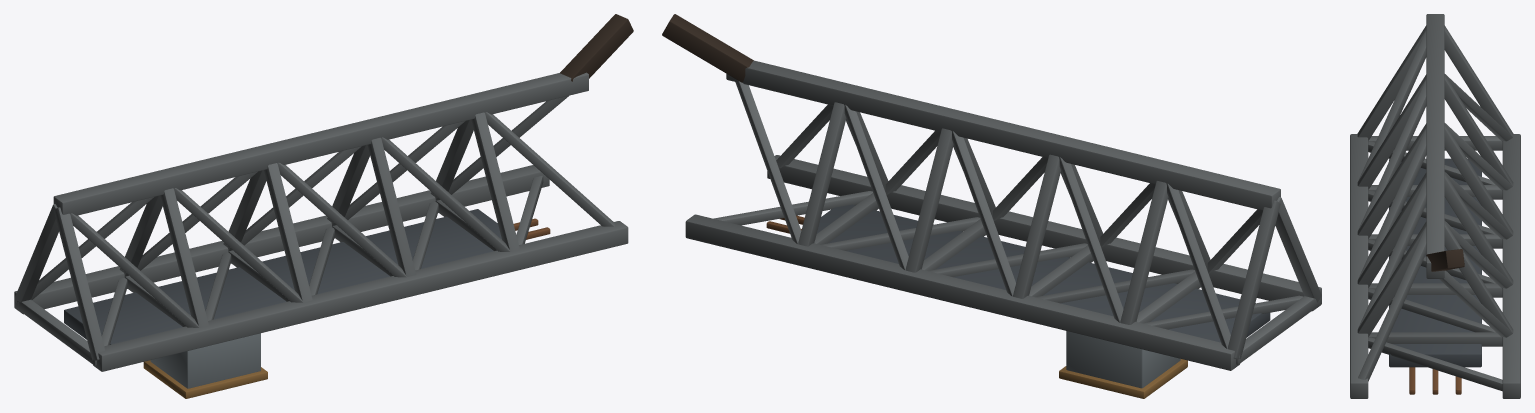
File: truss.glb
3 views of the same model, side by side, from view 1: azimuth 30°, elevation 25°; view 2: azimuth 150°, elevation 25°; view 3: azimuth 270°, elevation 25° (orthographic). The views are drawn at different scales.
Visible parts, largest first — view 1: truss; view 2: truss; view 3: truss.
Boxes of the visible parts, <box> form: truss: <box>14,14,633,398</box>; truss: <box>662,14,1321,398</box>; truss: <box>1350,14,1520,398</box>.
Size of the model in its own units: 1.88 by 0.7583 by 0.4909.
